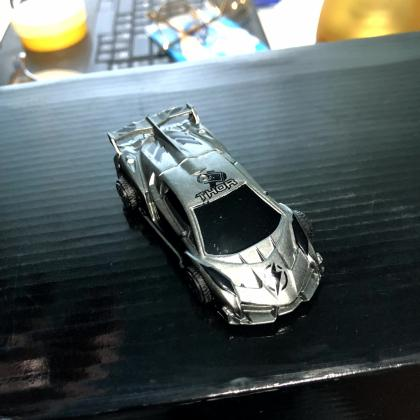Car: (108, 105, 325, 334)
